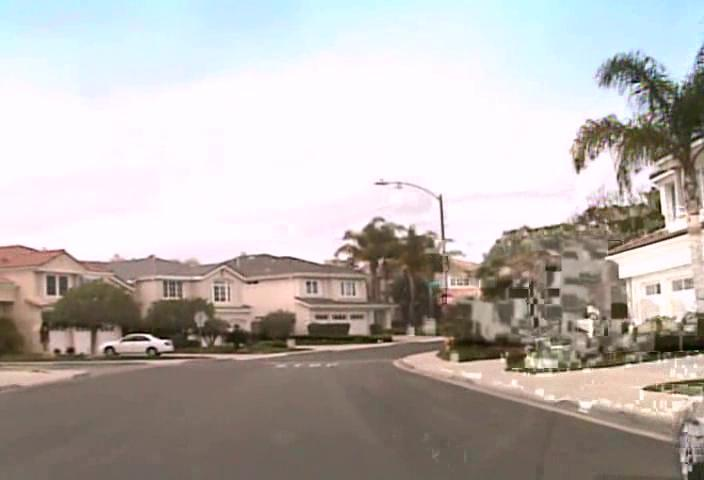stop: (436, 291, 455, 309)
